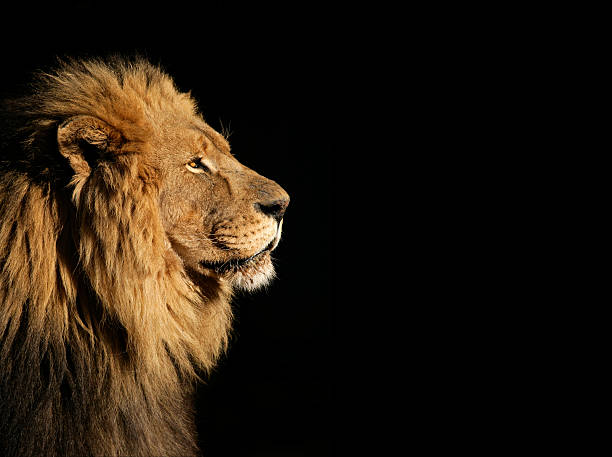lion: (10, 45, 298, 457)
